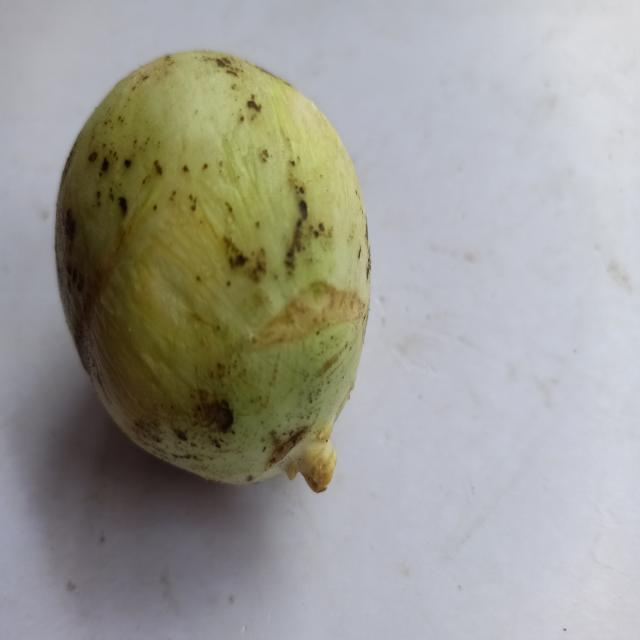Turnip: (53, 33, 373, 522)
